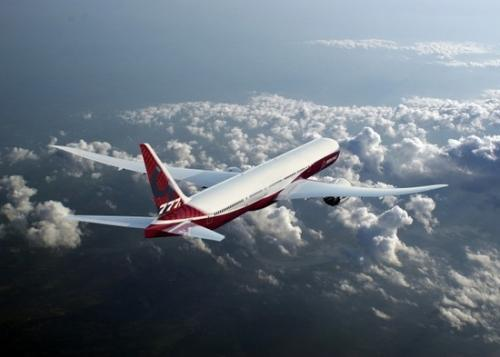airplane: (25, 126, 448, 244)
